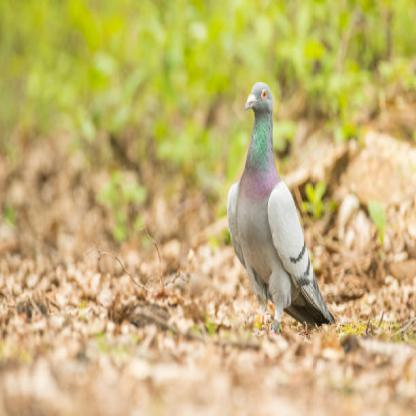Rock Pigeon: (228, 79, 328, 329)
